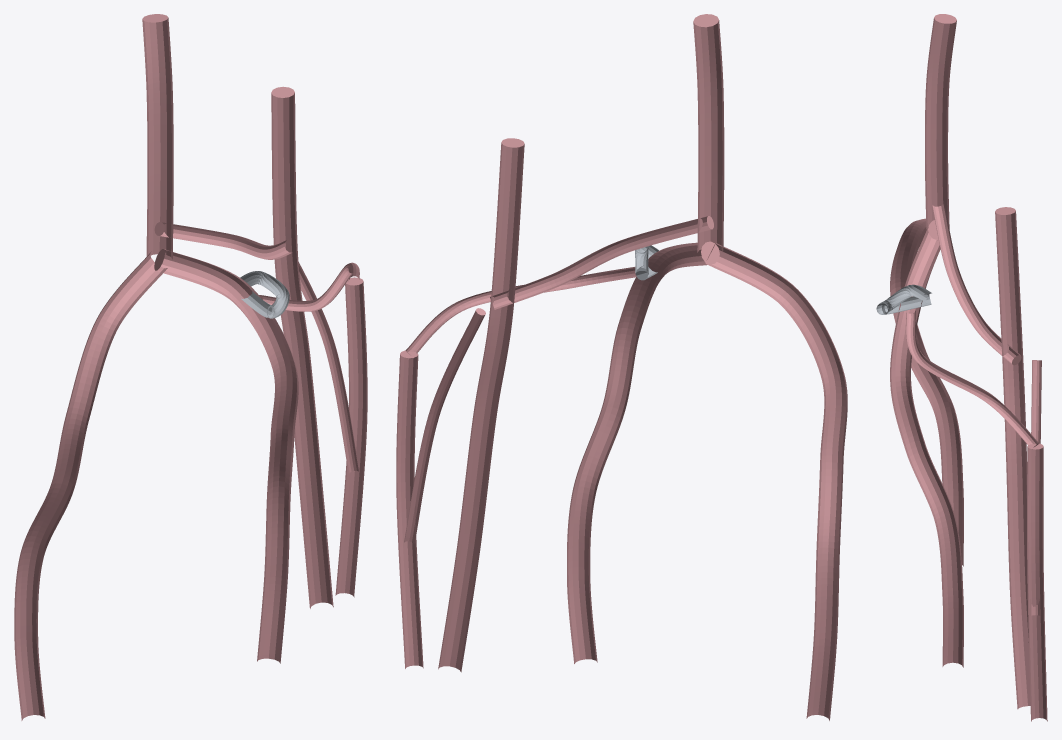
Rendered from craniocervical_hypo.glb.
3 renders of one model, left to right at view 1: azimuth 30°, elevation 25°; view 2: azimuth 150°, elevation 25°; view 3: azimuth 270°, elevation 25°, orthographic. The views are drawn at different scales.
Parts seen in each view (by area): view 1: Vertebral esquerda (V1–V4 esquemático), ACI cervical — referência, Vertebral direita (V1–V4 esquemático), Basilar, Carótida externa — referência, Faríngea ascendente, Hipoglossal persistente, Forame transversário C1 — guia, Artéria occipital; view 2: ACI cervical — referência, Vertebral esquerda (V1–V4 esquemático), Vertebral direita (V1–V4 esquemático), Basilar, Carótida externa — referência, Hipoglossal persistente, Faríngea ascendente, Artéria occipital; view 3: ACI cervical — referência, Vertebral direita (V1–V4 esquemático), Vertebral esquerda (V1–V4 esquemático), Basilar, Carótida externa — referência, Hipoglossal persistente, Artéria occipital, Forame transversário C1 — guia, Faríngea ascendente.
Boxes of the visible parts, left/top/right/bottom form: Vertebral esquerda (V1–V4 esquemático): left=14, top=252, right=167, bottom=720; ACI cervical — referência: left=271, top=86, right=333, bottom=608; Vertebral direita (V1–V4 esquemático): left=154, top=249, right=298, bottom=663; Basilar: left=142, top=14, right=173, bottom=259; Carótida externa — referência: left=335, top=277, right=367, bottom=597; Faríngea ascendente: left=298, top=261, right=359, bottom=473; Hipoglossal persistente: left=154, top=222, right=291, bottom=259; Forame transversário C1 — guia: left=240, top=271, right=289, bottom=318; Artéria occipital: left=259, top=262, right=359, bottom=311; ACI cervical — referência: left=438, top=138, right=524, bottom=672; Vertebral esquerda (V1–V4 esquemático): left=705, top=243, right=847, bottom=720; Vertebral direita (V1–V4 esquemático): left=567, top=241, right=719, bottom=663; Basilar: left=693, top=14, right=724, bottom=252; Carótida externa — referência: left=396, top=350, right=423, bottom=668; Hipoglossal persistente: left=490, top=216, right=713, bottom=309; Faríngea ascendente: left=404, top=308, right=485, bottom=544; Artéria occipital: left=405, top=267, right=636, bottom=355; ACI cervical — referência: left=995, top=207, right=1030, bottom=709; Vertebral direita (V1–V4 esquemático): left=890, top=228, right=963, bottom=667; Vertebral esquerda (V1–V4 esquemático): left=890, top=218, right=963, bottom=566; Basilar: left=925, top=14, right=956, bottom=229; Carótida externa — referência: left=1027, top=443, right=1047, bottom=721; Hipoglossal persistente: left=932, top=202, right=1021, bottom=365; Artéria occipital: left=905, top=310, right=1038, bottom=449; Forame transversário C1 — guia: left=876, top=284, right=931, bottom=314; Faríngea ascendente: left=1030, top=360, right=1041, bottom=615.
Size of the model in its own units: 5.41 by 8.84 by 2.28.
